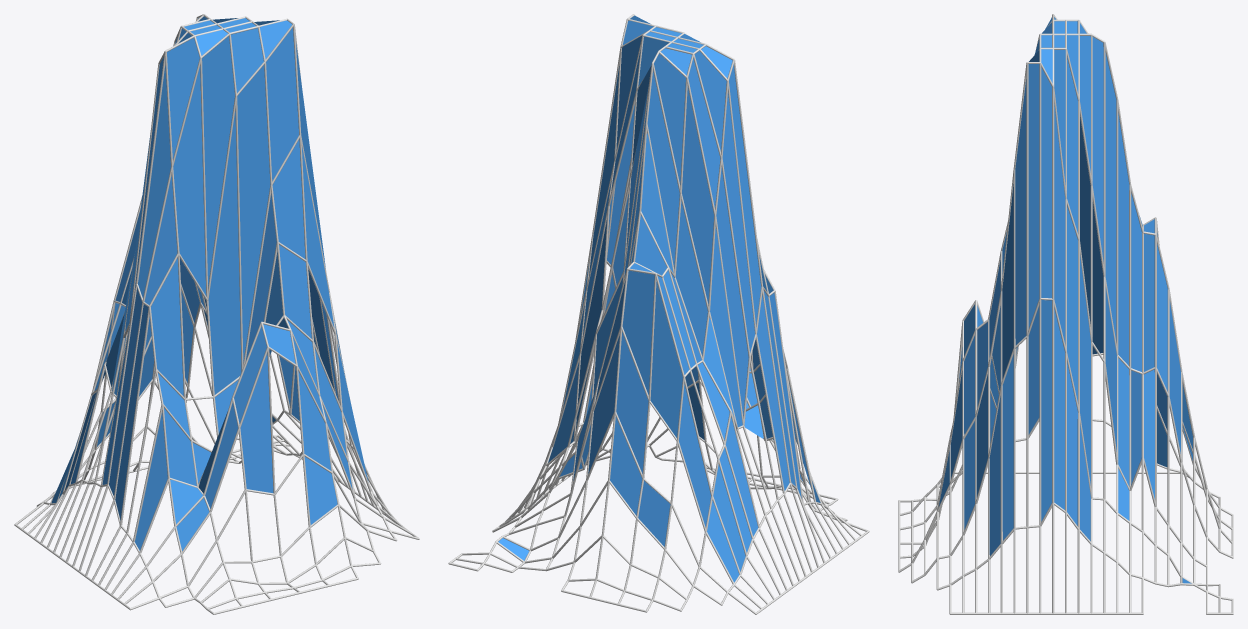
The model's file is abstract.dae.
The picture shows the model from 3 angles, left to right: view 1: azimuth 30°, elevation 25°; view 2: azimuth 150°, elevation 25°; view 3: azimuth 270°, elevation 25°; orthographic projection. The views are drawn at different scales.
Visible parts, largest first — view 1: Landscape, Landscape.1; view 2: Landscape, Landscape.1; view 3: Landscape, Landscape.1.
Boxes of the visible parts, x1,y1,x2,y2 form: Landscape: (51, 16, 368, 550); Landscape.1: (14, 14, 419, 614); Landscape: (498, 15, 820, 582); Landscape.1: (448, 14, 869, 614); Landscape: (938, 17, 1192, 583); Landscape.1: (898, 14, 1233, 614).
Bounding box in the file's own units: 604 × 1014 × 604.
